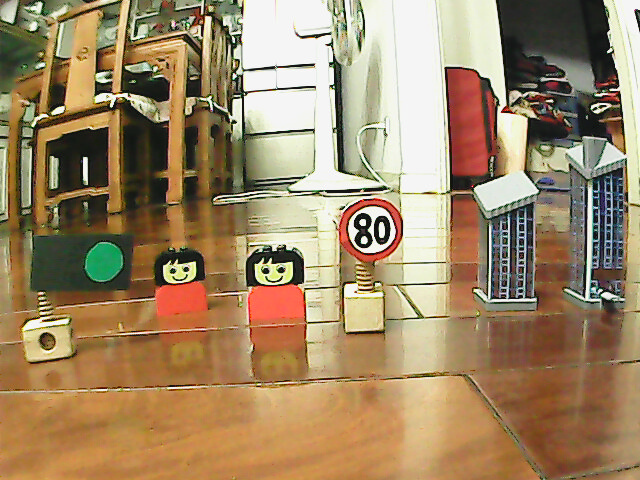Green Traffic Light: (77, 234, 129, 290)
Person: (242, 242, 309, 325), (150, 245, 212, 319)
Speed Limit 80: (337, 194, 406, 265)
